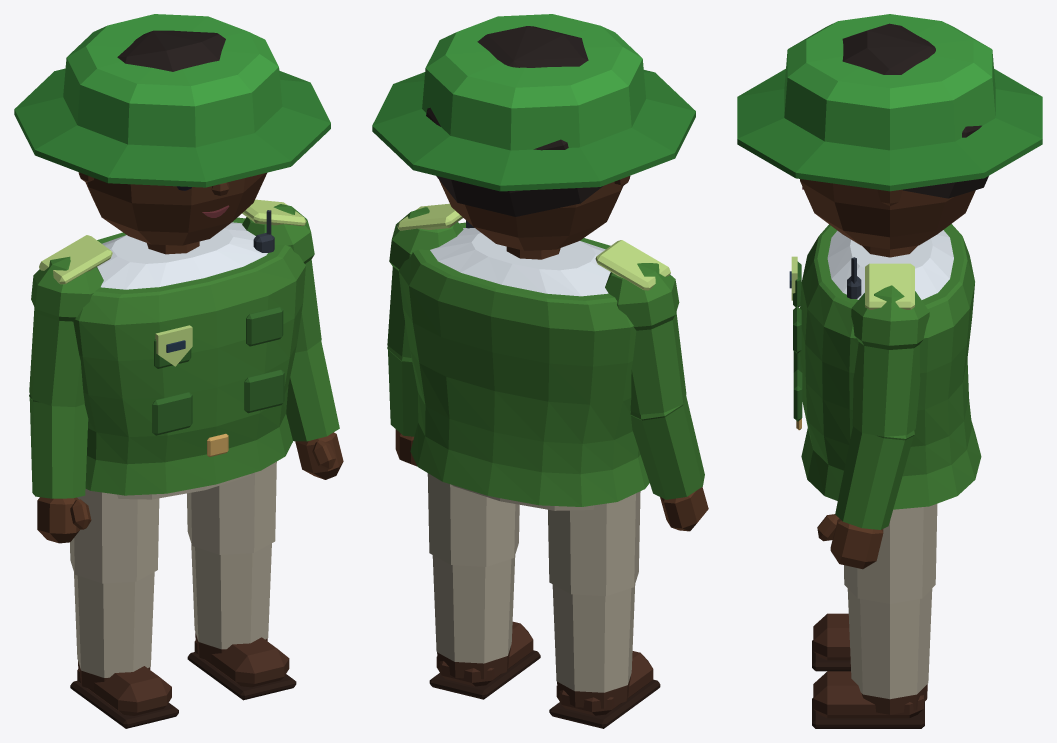
The model's file is sic_ver.glb.
3 renders of one model, left to right at view 1: azimuth 30°, elevation 25°; view 2: azimuth 150°, elevation 25°; view 3: azimuth 270°, elevation 25°, orthographic. The views are drawn at different scales.
Visible parts, largest first — view 1: jacke, kopfbedeckung, bein_r, bein_l, arm_r, kopf, arm_l, torso, taschen, schuh_l, schuh_r, haare (+5 smaller); view 2: jacke, kopfbedeckung, bein_r, bein_l, arm_r, haare, torso, kopf, arm_l, schuh_r, schuh_l, schulterklappen (+1 smaller); view 3: kopfbedeckung, jacke, arm_l, bein_l, kopf, schuh_l, haare, torso, hand_l, schuh_r, schulterklappen, taschen.
Part boxes in pixels (<box>): jacke: <box>73,217,305,495</box>; kopfbedeckung: <box>14,14,330,187</box>; bein_r: <box>70,489,159,677</box>; bein_l: <box>187,461,276,649</box>; arm_r: <box>29,256,103,498</box>; kopf: <box>78,172,266,245</box>; arm_l: <box>242,204,339,441</box>; torso: <box>97,222,267,289</box>; taschen: <box>152,307,284,435</box>; schuh_l: <box>187,632,296,700</box>; schuh_r: <box>70,661,178,728</box>; haare: <box>117,30,225,71</box>; jacke: <box>398,222,649,506</box>; kopfbedeckung: <box>372,14,695,191</box>; bein_r: <box>548,491,640,692</box>; bein_l: <box>427,473,519,663</box>; arm_r: <box>605,263,704,499</box>; haare: <box>426,26,602,216</box>; torso: <box>430,228,610,296</box>; kopf: <box>439,176,630,250</box>; arm_l: <box>387,207,463,436</box>; schuh_r: <box>549,651,660,728</box>; schuh_l: <box>429,621,540,699</box>; schulterklappen: <box>397,203,670,290</box>; kopfbedeckung: <box>737,14,1042,191</box>; jacke: <box>800,224,981,509</box>; arm_l: <box>835,285,929,529</box>; bein_l: <box>844,504,937,699</box>; kopf: <box>800,179,975,249</box>; schuh_l: <box>812,671,927,728</box>; haare: <box>842,23,988,198</box>; torso: <box>827,230,953,299</box>; hand_l: <box>817,514,883,569</box>; schuh_r: <box>812,613,850,671</box>; schulterklappen: <box>865,263,914,309</box>; taschen: <box>793,261,802,421</box>.
Size of the model in its own units: 0.0127 by 0.0258 by 0.011.
